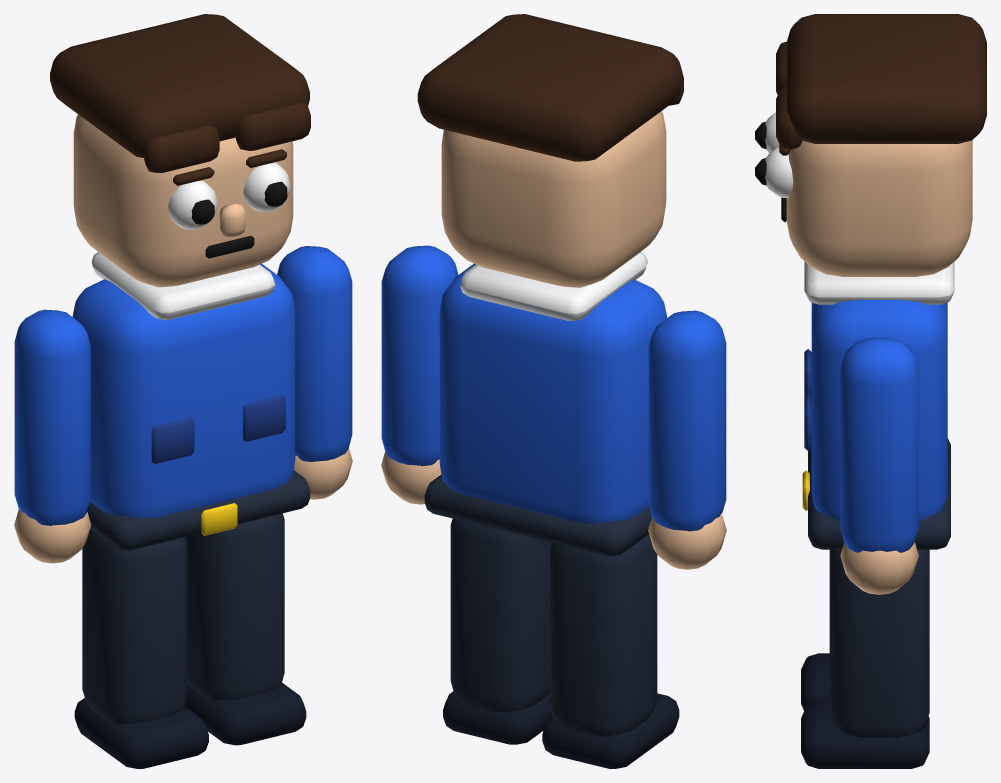
File: person.glb
The picture shows the model from 3 angles, left to right: view 1: azimuth 30°, elevation 25°; view 2: azimuth 150°, elevation 25°; view 3: azimuth 270°, elevation 25°; orthographic projection. The views are drawn at different scales.
Visible parts, largest first — view 1: Body, Hair, Head, LegL, LegR, ArmL, ArmR, Belt, ShoeL, Collar, ShoeR, HandL (+10 smaller); view 2: Body, Head, Hair, LegL, LegR, ArmL, ArmR, Belt, Collar, ShoeL, ShoeR, HandL (+1 smaller); view 3: Hair, Head, ArmR, LegR, Body, ShoeR, Collar, Belt, HandR, ShoeL, EyeWR, FringeR (+2 smaller).
Boxes of the visible parts, box(x1,y1,x2,y2) form: Body: box(72, 263, 295, 518); Hair: box(50, 14, 309, 157); Head: box(73, 114, 293, 287); LegL: box(82, 529, 187, 724); LegR: box(185, 513, 284, 700); ArmL: box(14, 309, 90, 525); ArmR: box(277, 246, 352, 461); Belt: box(87, 470, 310, 550); ShoeL: box(74, 698, 208, 768); Collar: box(91, 252, 275, 319); ShoeR: box(185, 683, 306, 745); HandL: box(14, 508, 91, 563); Body: box(439, 263, 667, 523); Head: box(441, 111, 666, 287); Hair: box(417, 14, 683, 161); LegL: box(550, 534, 657, 736); LegR: box(450, 518, 551, 712); ArmL: box(648, 310, 726, 531); ArmR: box(381, 245, 458, 466); Belt: box(424, 474, 651, 556); Collar: box(460, 252, 647, 320); ShoeL: box(542, 693, 679, 768); ShoeR: box(443, 691, 552, 744); HandL: box(648, 513, 726, 569); Hair: box(786, 14, 986, 143); Head: box(786, 140, 972, 276); ArmR: box(840, 337, 918, 552); LegR: box(829, 549, 929, 737); Body: box(811, 300, 947, 520); ShoeR: box(801, 701, 929, 768); Collar: box(804, 261, 954, 304); Belt: box(808, 438, 950, 549); HandR: box(840, 542, 918, 594); ShoeL: box(801, 653, 829, 710); EyeWR: box(765, 147, 793, 198); FringeR: box(776, 87, 802, 149).
Bounding box in the file's own units: 1.08 × 2.1 × 0.648.
